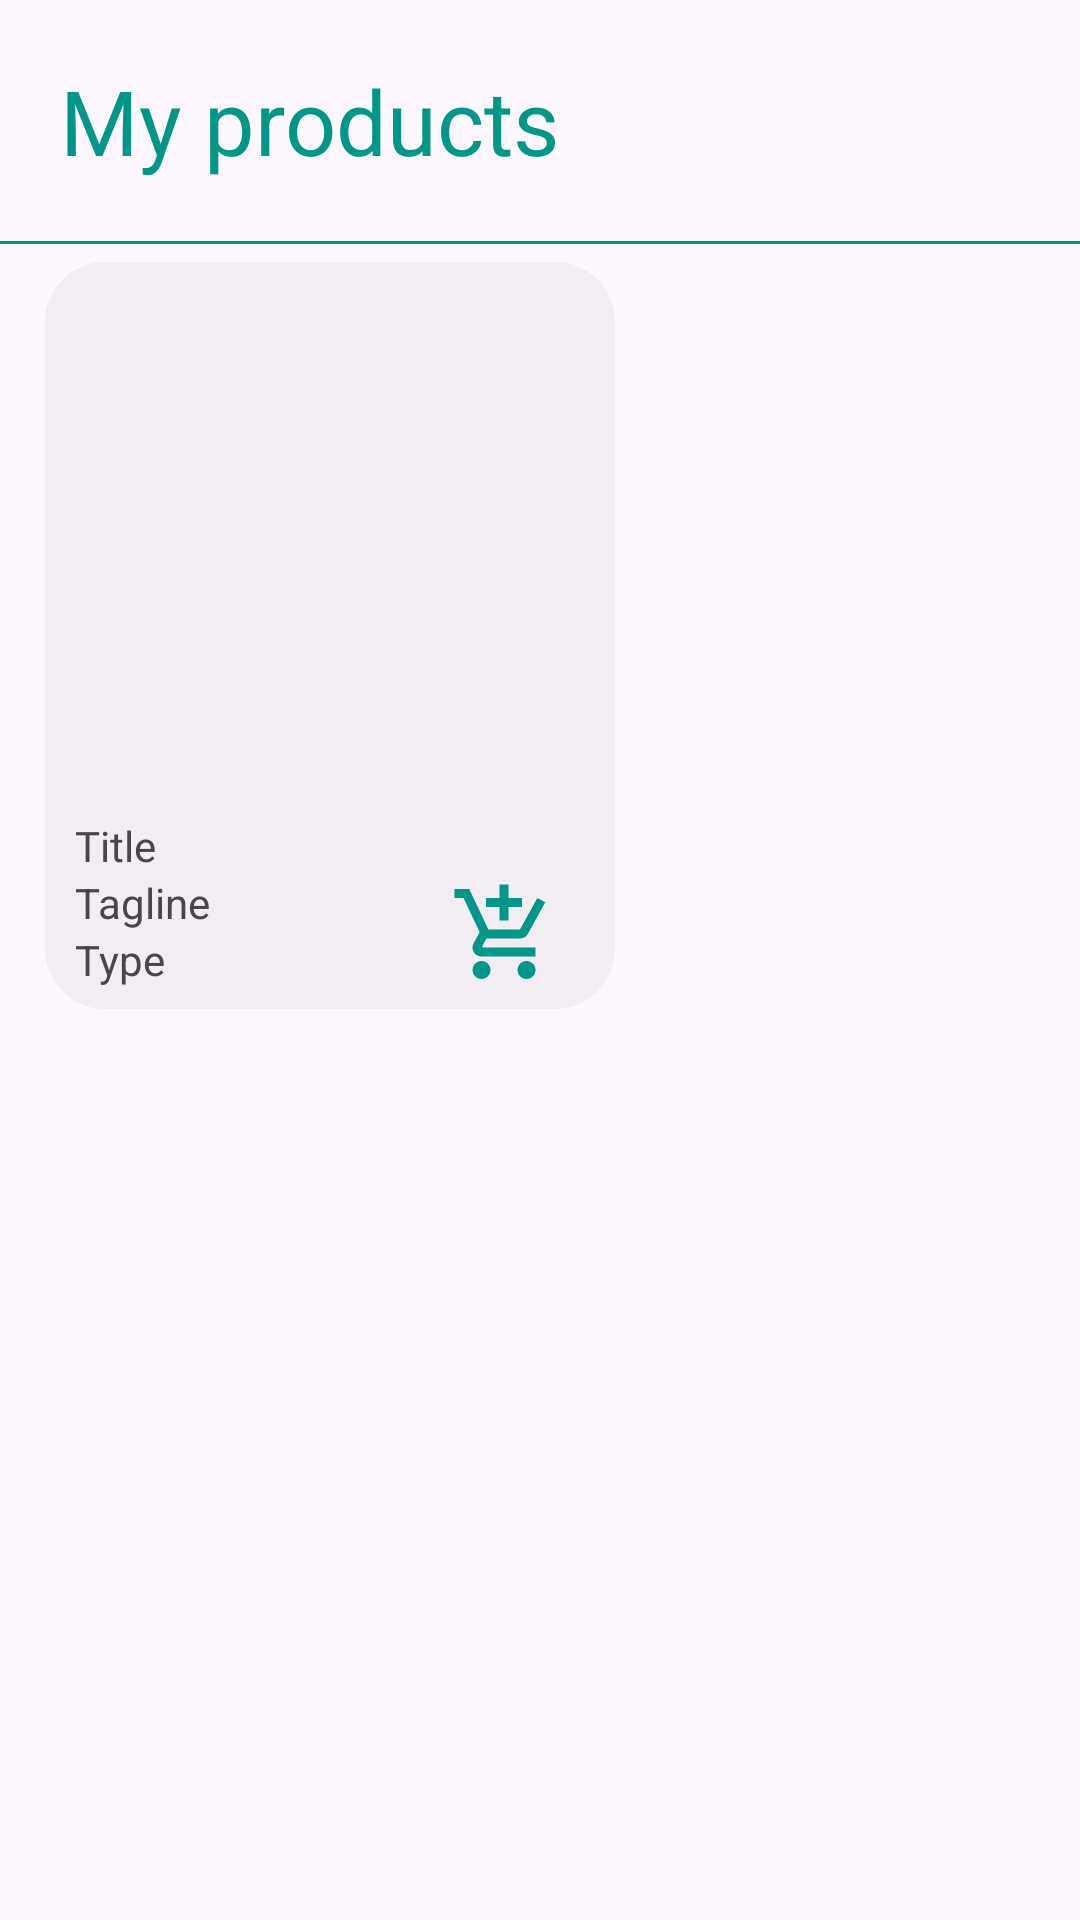

Where icons sit on this 1080px x 1920px app screen, as (x1, y1, x2, y2):
add shopping cart: (454, 884, 545, 979)
